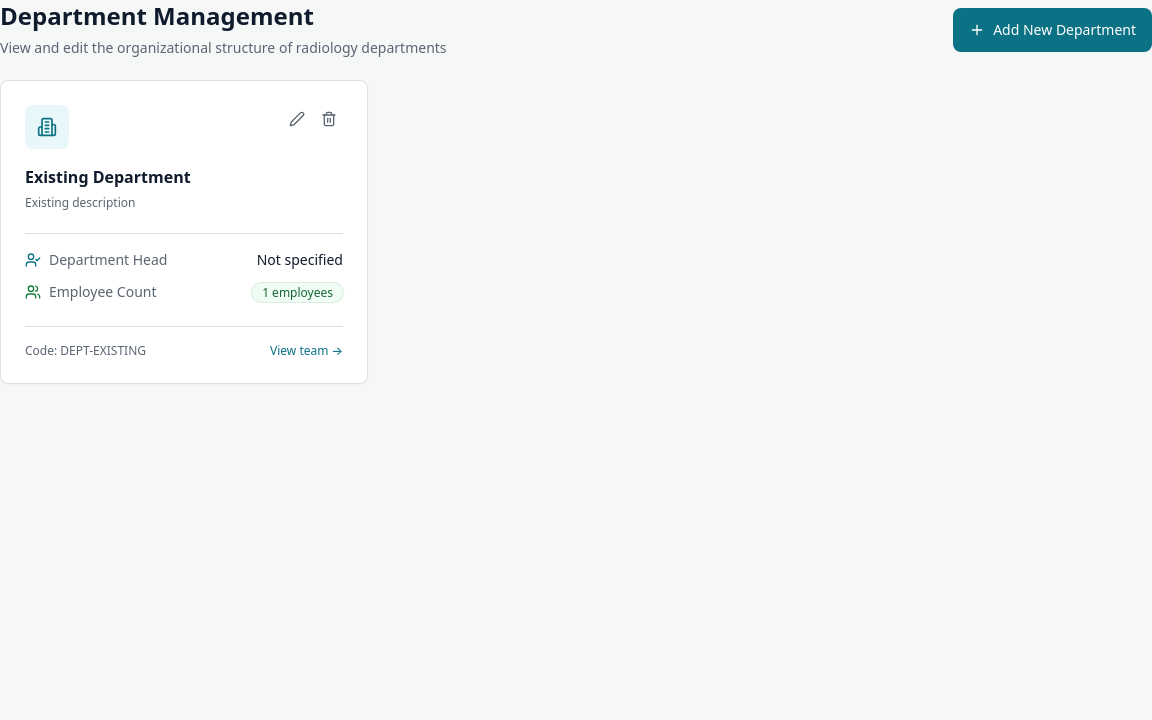
Test: DepartmentsPage › shows a meaningful validation message instead of the generic error on failed creation
Click the button "Add New Department": coordinates (1053, 30) [953,8,1151,52]
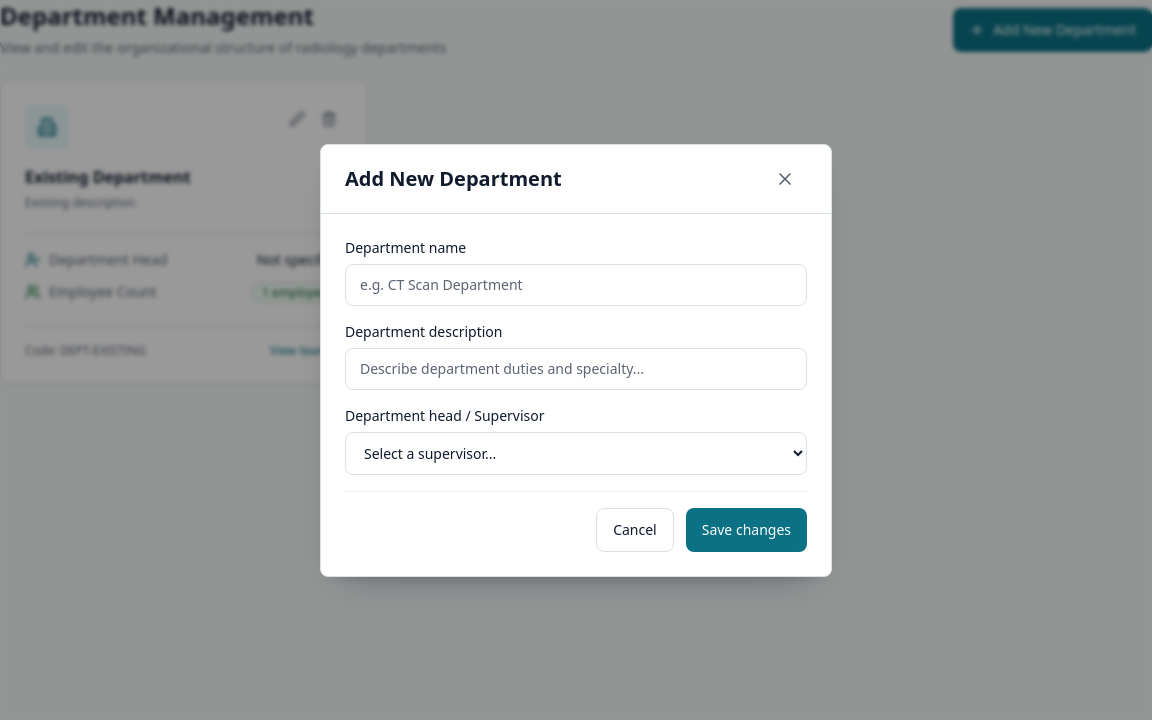
In the field labelled "Department name": coordinates (576, 284) [345,264,807,306], type "Interventional CT"
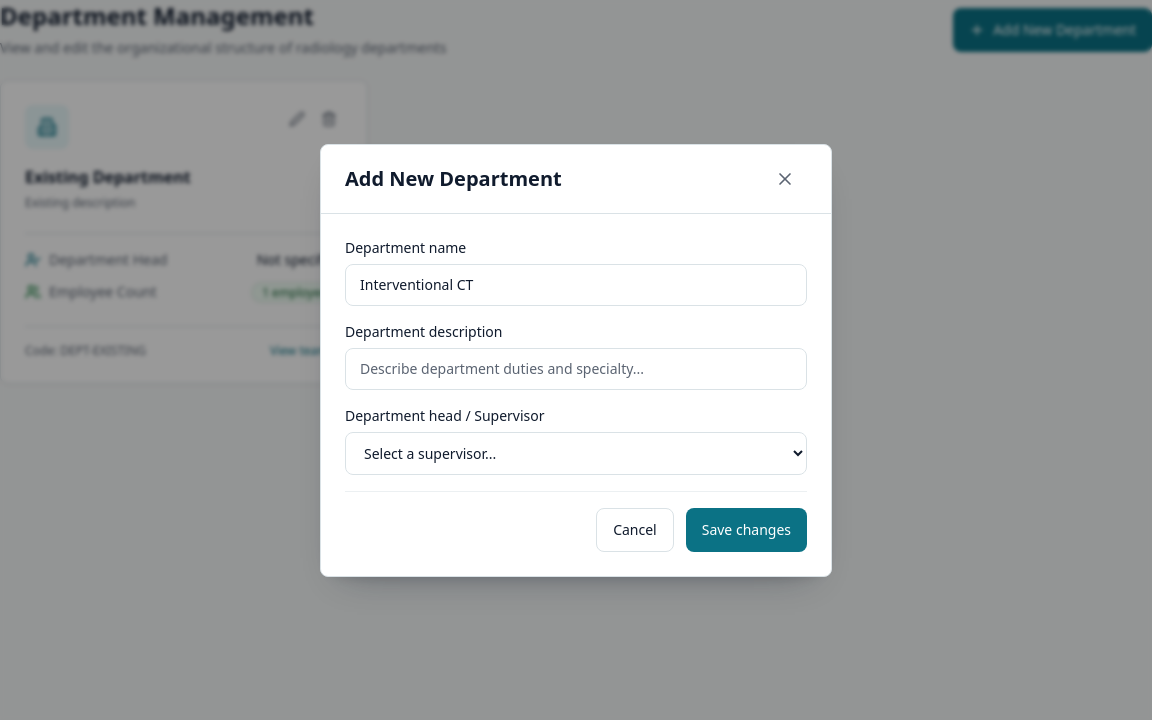
Click the button "Save changes": coordinates (746, 530) [686,508,807,552]
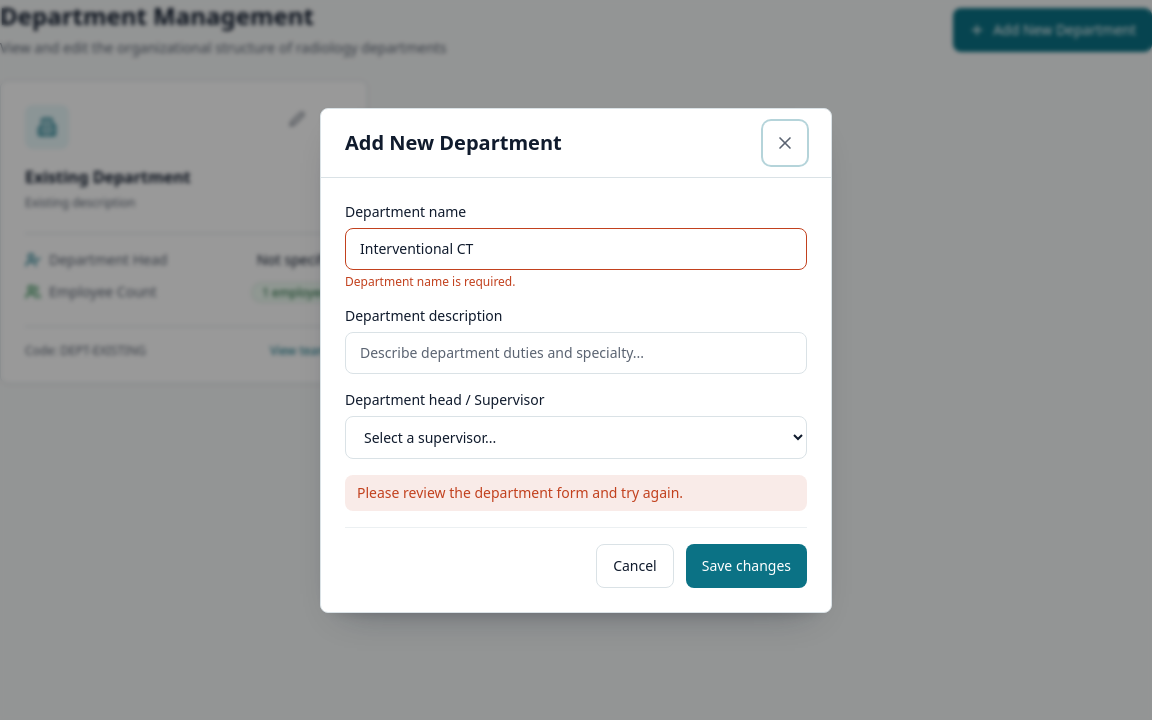
Expected: the text "Department name is required." is shown, [345,272,516,290]
